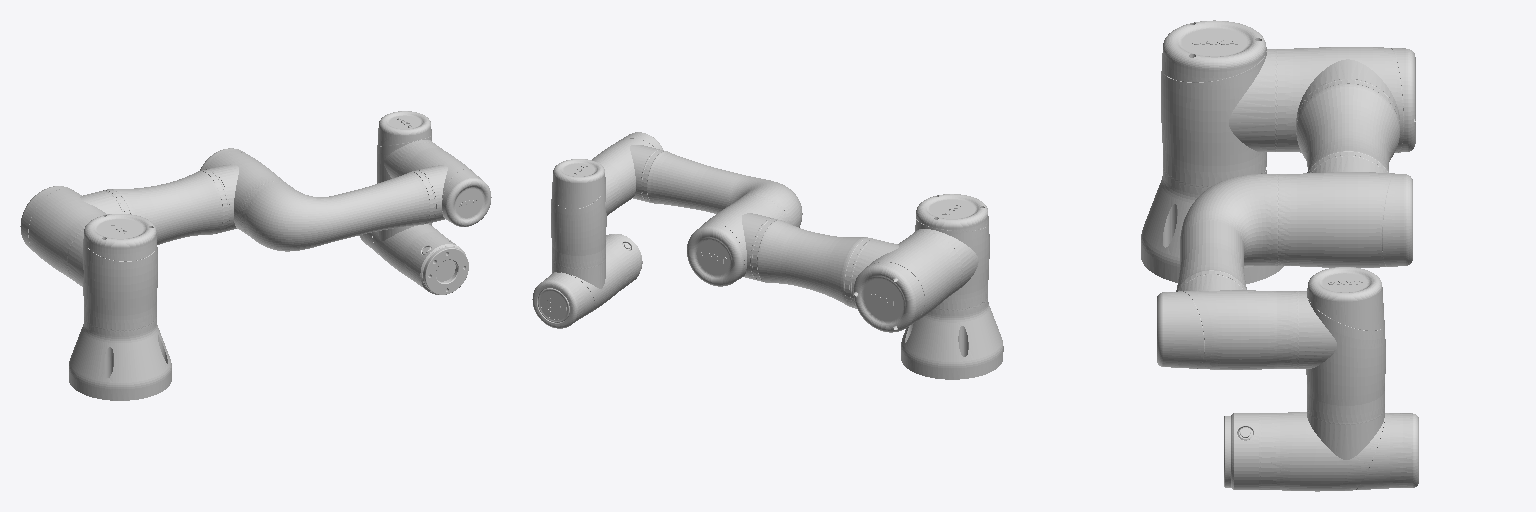
URDF robot description (jaka_zu3):
<?xml version="1.0" encoding="utf-8" ?>
<!-- This URDF was automatically created by SolidWorks to URDF Exporter! Originally created by [author] ([email redacted]) 
     Commit Version: 1.5.1-0-g916b5db  Build Version: 1.5.7152.31018
     For more information, please see http://wiki.ros.org/sw_urdf_exporter -->
<robot name="jaka_zu3">

    <!-- LINK -->
    <link name="world" />

    <link name="Link_0">  
        <inertial>
            <origin xyz="-0.0015666 1.7294E-05 0.05088" rpy="0 0 0" />
            <mass value="3.6417" />
            <inertia ixx="0.0050627" ixy="-6.9042E-07" ixz="-8.4162E-05" iyy="0.0051147" iyz="2.9665E-06" izz="0.006537" />
        </inertial>

        <visual>
            <origin xyz="0 0 0" rpy="0 0 0" />
            <geometry>
                <mesh filename="package://jaka_description/meshes/jaka_zu3_meshes/Link_0.STL" />
            </geometry>
            <material name="">
                <color rgba="0.84706 0.84706 0.84706 1" />
            </material>
        </visual>
        <collision>
            <origin xyz="0 0 0" rpy="0 0 0" />
            <geometry>
                <mesh filename="package://jaka_description/meshes/jaka_zu3_meshes/Link_0.STL" />
            </geometry>
        </collision>
    </link>

    <link name="Link_1">      
        <inertial>
            <origin xyz="-3.8197E-07 0.0039623 -0.0033438" rpy="0 0 0" />
            <mass value="7.0387" />
            <inertia ixx="0.012561" ixy="8.1417E-08" ixz="-1.8051E-08" iyy="0.011919" iyz="-8.7195E-05" izz="0.0085506" />
        </inertial>

        <visual>
            <origin xyz="0 0 0" rpy="0 0 0" />
            <geometry>
                <mesh filename="package://jaka_description/meshes/jaka_zu3_meshes/Link_1.STL" />
            </geometry>
            <material name="">
                <color rgba="0.84706 0.84706 0.84706 1" />
            </material>
        </visual>
        <collision>
            <origin xyz="0 0 0" rpy="0 0 0" />
            <geometry>
                <mesh filename="package://jaka_description/meshes/jaka_zu3_meshes/Link_1.STL" />
            </geometry>
        </collision>
    </link>

    <link name="Link_2">     
        <inertial>
            <origin xyz="0.11439 -6.6036E-07 -0.11395" rpy="0 0 0" />
            <mass value="18.247" />
            <inertia ixx="0.025431" ixy="1.2399E-06" ixz="-0.0016148" iyy="0.21741" iyz="-2.144E-08" izz="0.20927" />
        </inertial>

        <visual>
            <origin xyz="0 0 0" rpy="0 0 0" />
            <geometry>
                <mesh filename="package://jaka_description/meshes/jaka_zu3_meshes/Link_2.STL" />
            </geometry>
            <material name="">
                <color rgba="0.84706 0.84706 0.84706 1" />
            </material>
        </visual>
        <collision>
            <origin xyz="0 0 0" rpy="0 0 0" />
            <geometry>
                <mesh filename="package://jaka_description/meshes/jaka_zu3_meshes/Link_2.STL" />
            </geometry>
        </collision>
    </link>
   
    <link name="Link_3"> 
        <inertial>
            <origin xyz="0.13218 1.2348E-05 -0.0083734" rpy="0 0 0" />
            <mass value="9.5247" />
            <inertia ixx="0.0094701" ixy="7.4928E-07" ixz="-0.0012353" iyy="0.088902" iyz="6.5058E-08" izz="0.084947" />
        </inertial>

        <visual>
            <origin xyz="0 0 0" rpy="0 0 0" />
            <geometry>
                <mesh filename="package://jaka_description/meshes/jaka_zu3_meshes/Link_3.STL" />
            </geometry>
            <material name="">
                <color rgba="0.84706 0.84706 0.84706 1" />
            </material>
        </visual>
        <collision>
            <origin xyz="0 0 0" rpy="0 0 0" />
            <geometry>
                <mesh filename="package://jaka_description/meshes/jaka_zu3_meshes/Link_3.STL" />
            </geometry>
        </collision>
    </link>

    <link name="Link_4"> 
        <inertial>
            <origin xyz="6.5068E-08 -0.014052 0.0031614" rpy="0 0 0" />
            <mass value="3.8728" />
            <inertia ixx="0.0058546" ixy="-1.505E-08" ixz="-1.7928E-08" iyy="0.0025893" iyz="-0.00019825" izz="0.0056328" />
        </inertial>

        <visual>
            <origin xyz="0 0 0" rpy="0 0 0" />
            <geometry>
                <mesh filename="package://jaka_description/meshes/jaka_zu3_meshes/Link_4.STL" />
            </geometry>
            <material name="">
                <color rgba="0.84706 0.84706 0.84706 1" />
            </material>
        </visual>
        <collision>
            <origin xyz="0 0 0" rpy="0 0 0" />
            <geometry>
                <mesh filename="package://jaka_description/meshes/jaka_zu3_meshes/Link_4.STL" />
            </geometry>
        </collision>
    </link>

    <link name="Link_5">
        <inertial>
            <origin xyz="7.9256E-08 0.0068655 -0.0029086" rpy="0 0 0" />
            <mass value="4.3241" />
            <inertia ixx="0.007903" ixy="4.9677E-09" ixz="1.0083E-08" iyy="0.0028281" iyz="-0.00013094" izz="0.0076792" />
        </inertial>

        <visual>
            <origin xyz="0 0 0" rpy="0 0 0" />
            <geometry>
                <mesh filename="package://jaka_description/meshes/jaka_zu3_meshes/Link_5.STL" />
            </geometry>
            <material name="">
                <color rgba="0.84706 0.84706 0.84706 1" />
            </material>
        </visual>
        <collision>
            <origin xyz="0 0 0" rpy="0 0 0" />
            <geometry>
                <mesh filename="package://jaka_description/meshes/jaka_zu3_meshes/Link_5.STL" />
            </geometry>
        </collision>
    </link>

    <link name="Link_6">    
        <inertial>
            <origin xyz="4.9731E-05 -2.965E-05 -0.016372" rpy="0 0 0" />
            <mass value="0.7876" />
            <inertia ixx="0.00028184" ixy="-6.9755E-07" ixz="-4.4645E-07" iyy="0.00028506" iyz="6.0031E-07" izz="0.00045635" />
        </inertial>

        <visual>
            <origin xyz="0 0 0" rpy="0 0 0" />
            <geometry>
                <mesh filename="package://jaka_description/meshes/jaka_zu3_meshes/Link_6.STL" />
            </geometry>
            <material name="">
                <color rgba="0.84706 0.84706 0.84706 1" />
            </material>
        </visual>
        <collision>
            <origin xyz="0 0 0" rpy="0 0 0" />
            <geometry>
                <mesh filename="package://jaka_description/meshes/jaka_zu3_meshes/Link_6.STL" />
            </geometry>
        </collision>
    </link>

    <!-- JOINT -->
    <joint name="fixed" type="fixed">
        <parent link="world" />
        <child link="Link_0" />
    </joint>

    <joint name="joint_1" type="revolute">
        <origin xyz="0 0 0.15055" rpy="0 0 0" />
        <parent link="Link_0" />
        <child link="Link_1" />
        <axis xyz="0 0 1" />
        <limit lower="-6.28" upper="6.28" effort="2000" velocity="3.14" />
    </joint>
    
    <joint name="joint_2" type="revolute">
        <origin xyz="0 0 0" rpy="1.5708 0 0" />
        <parent link="Link_1" />
        <child link="Link_2" />
        <axis xyz="0 0 1" />
        <limit lower="-1.48" upper="4.62" effort="1500" velocity="3.14" />
    </joint>

    <joint name="joint_3" type="revolute">
        <origin xyz="0.248 0 0" rpy="0 0 0" />
        <parent link="Link_2" />
        <child link="Link_3" />
        <axis xyz="0 0 1" />
        <limit lower="-3.05" upper="3.05" effort="1500" velocity="3.14" />
    </joint>

    <joint name="joint_4" type="revolute">
        <origin xyz="0.228 1.1925E-05 -0.115" rpy="0 0 0" />
        <parent link="Link_3" />
        <child link="Link_4" />
        <axis xyz="0 0 1" />
        <limit lower="-1.48" upper="4.62" effort="1000" velocity="3.84" />
    </joint>

    <joint name="joint_5" type="revolute">
        <origin xyz="0 -0.1175 0" rpy="1.5708 0 0" />
        <parent link="Link_4" />
        <child link="Link_5" />
        <axis xyz="0 0 1" />
        <limit lower="-6.28" upper="6.28" effort="1000" velocity="3.84" />
    </joint>

        <joint name="joint_6" type="revolute">
        <origin xyz="0 0.1065 0" rpy="-1.5708 0 0" />
        <parent link="Link_5" />
        <child link="Link_6" />
        <axis xyz="0 0 1" />
        <limit lower="-6.28" upper="6.28" effort="1000" velocity="3.84" />
    </joint>

    <transmission name="trans_joint_1">
        <type>transmission_interface/SimpleTransmission</type>
        <joint name="joint_1">
            <hardwareInterface>hardware_interface/PositionJointInterface</hardwareInterface>
        </joint>
        <actuator name="joint_1_motor">
            <hardwareInterface>hardware_interface/PositionJointInterface</hardwareInterface>
            <mechanicalReduction>1</mechanicalReduction>
        </actuator>
    </transmission>
    <transmission name="trans_joint_2">
        <type>transmission_interface/SimpleTransmission</type>
        <joint name="joint_2">
            <hardwareInterface>hardware_interface/PositionJointInterface</hardwareInterface>
        </joint>
        <actuator name="joint_2_motor">
            <hardwareInterface>hardware_interface/PositionJointInterface</hardwareInterface>
            <mechanicalReduction>1</mechanicalReduction>
        </actuator>
    </transmission>
    <transmission name="trans_joint_3">
        <type>transmission_interface/SimpleTransmission</type>
        <joint name="joint_3">
            <hardwareInterface>hardware_interface/PositionJointInterface</hardwareInterface>
        </joint>
        <actuator name="joint_3_motor">
            <hardwareInterface>hardware_interface/PositionJointInterface</hardwareInterface>
            <mechanicalReduction>1</mechanicalReduction>
        </actuator>
    </transmission>
    <transmission name="trans_joint_4">
        <type>transmission_interface/SimpleTransmission</type>
        <joint name="joint_4">
            <hardwareInterface>hardware_interface/PositionJointInterface</hardwareInterface>
        </joint>
        <actuator name="joint_4_motor">
            <hardwareInterface>hardware_interface/PositionJointInterface</hardwareInterface>
            <mechanicalReduction>1</mechanicalReduction>
        </actuator>
    </transmission>
    <transmission name="trans_joint_5">
        <type>transmission_interface/SimpleTransmission</type>
        <joint name="joint_5">
            <hardwareInterface>hardware_interface/PositionJointInterface</hardwareInterface>
        </joint>
        <actuator name="joint_5_motor">
            <hardwareInterface>hardware_interface/PositionJointInterface</hardwareInterface>
            <mechanicalReduction>1</mechanicalReduction>
        </actuator>
    </transmission>
    <transmission name="trans_joint_6">
        <type>transmission_interface/SimpleTransmission</type>
        <joint name="joint_6">
            <hardwareInterface>hardware_interface/PositionJointInterface</hardwareInterface>
        </joint>
        <actuator name="joint_6_motor">
            <hardwareInterface>hardware_interface/PositionJointInterface</hardwareInterface>
            <mechanicalReduction>1</mechanicalReduction>
        </actuator>
    </transmission>
    <gazebo>
        <plugin name="gazebo_ros_control" filename="libgazebo_ros_control.so">
            <robotNamespace>/</robotNamespace>
        </plugin>
    </gazebo>
</robot>

--- Facts derived from the render (not from the file) ---
Views: 3 orthographic renders of the robot side by side, from view 1: azimuth 30°, elevation 25°; view 2: azimuth 150°, elevation 25°; view 3: azimuth 270°, elevation 25°.
Model jaka_zu3 with 8 links and 7 joints (6 revolute, 1 fixed), rooted at world, posed all joints at 0.
Visible links, largest first — view 1: Link_3, Link_2, Link_1, Link_0, Link_6, Link_4, Link_5; view 2: Link_2, Link_3, Link_0, Link_4, Link_1, Link_5, Link_6; view 3: Link_2, Link_3, Link_1, Link_4, Link_5, Link_0, Link_6.
Link boxes in pixels (x1,y1,x2,y2): Link_3: (245,142,491,251); Link_2: (20,148,289,283); Link_1: (68,214,157,331); Link_0: (69,318,171,400); Link_6: (412,238,468,294); Link_4: (377,111,434,183); Link_5: (359,223,447,281); Link_2: (687,192,962,332); Link_3: (592,132,802,227); Link_0: (901,299,1003,379); Link_4: (551,159,618,268); Link_1: (913,194,989,310); Link_5: (532,241,631,328); Link_6: (606,234,642,285); Link_2: (1271,47,1415,267); Link_3: (1157,174,1298,369); Link_1: (1161,20,1274,188); Link_4: (1299,267,1385,424); Link_5: (1259,410,1418,491); Link_0: (1141,170,1283,283); Link_6: (1224,413,1258,489).
Size in the robot's own frame: 0.5755 by 0.2435 by 0.2115 metres.
Meshes: 7 distinct files referenced, 7 mesh visuals loaded (7 binary STL).
